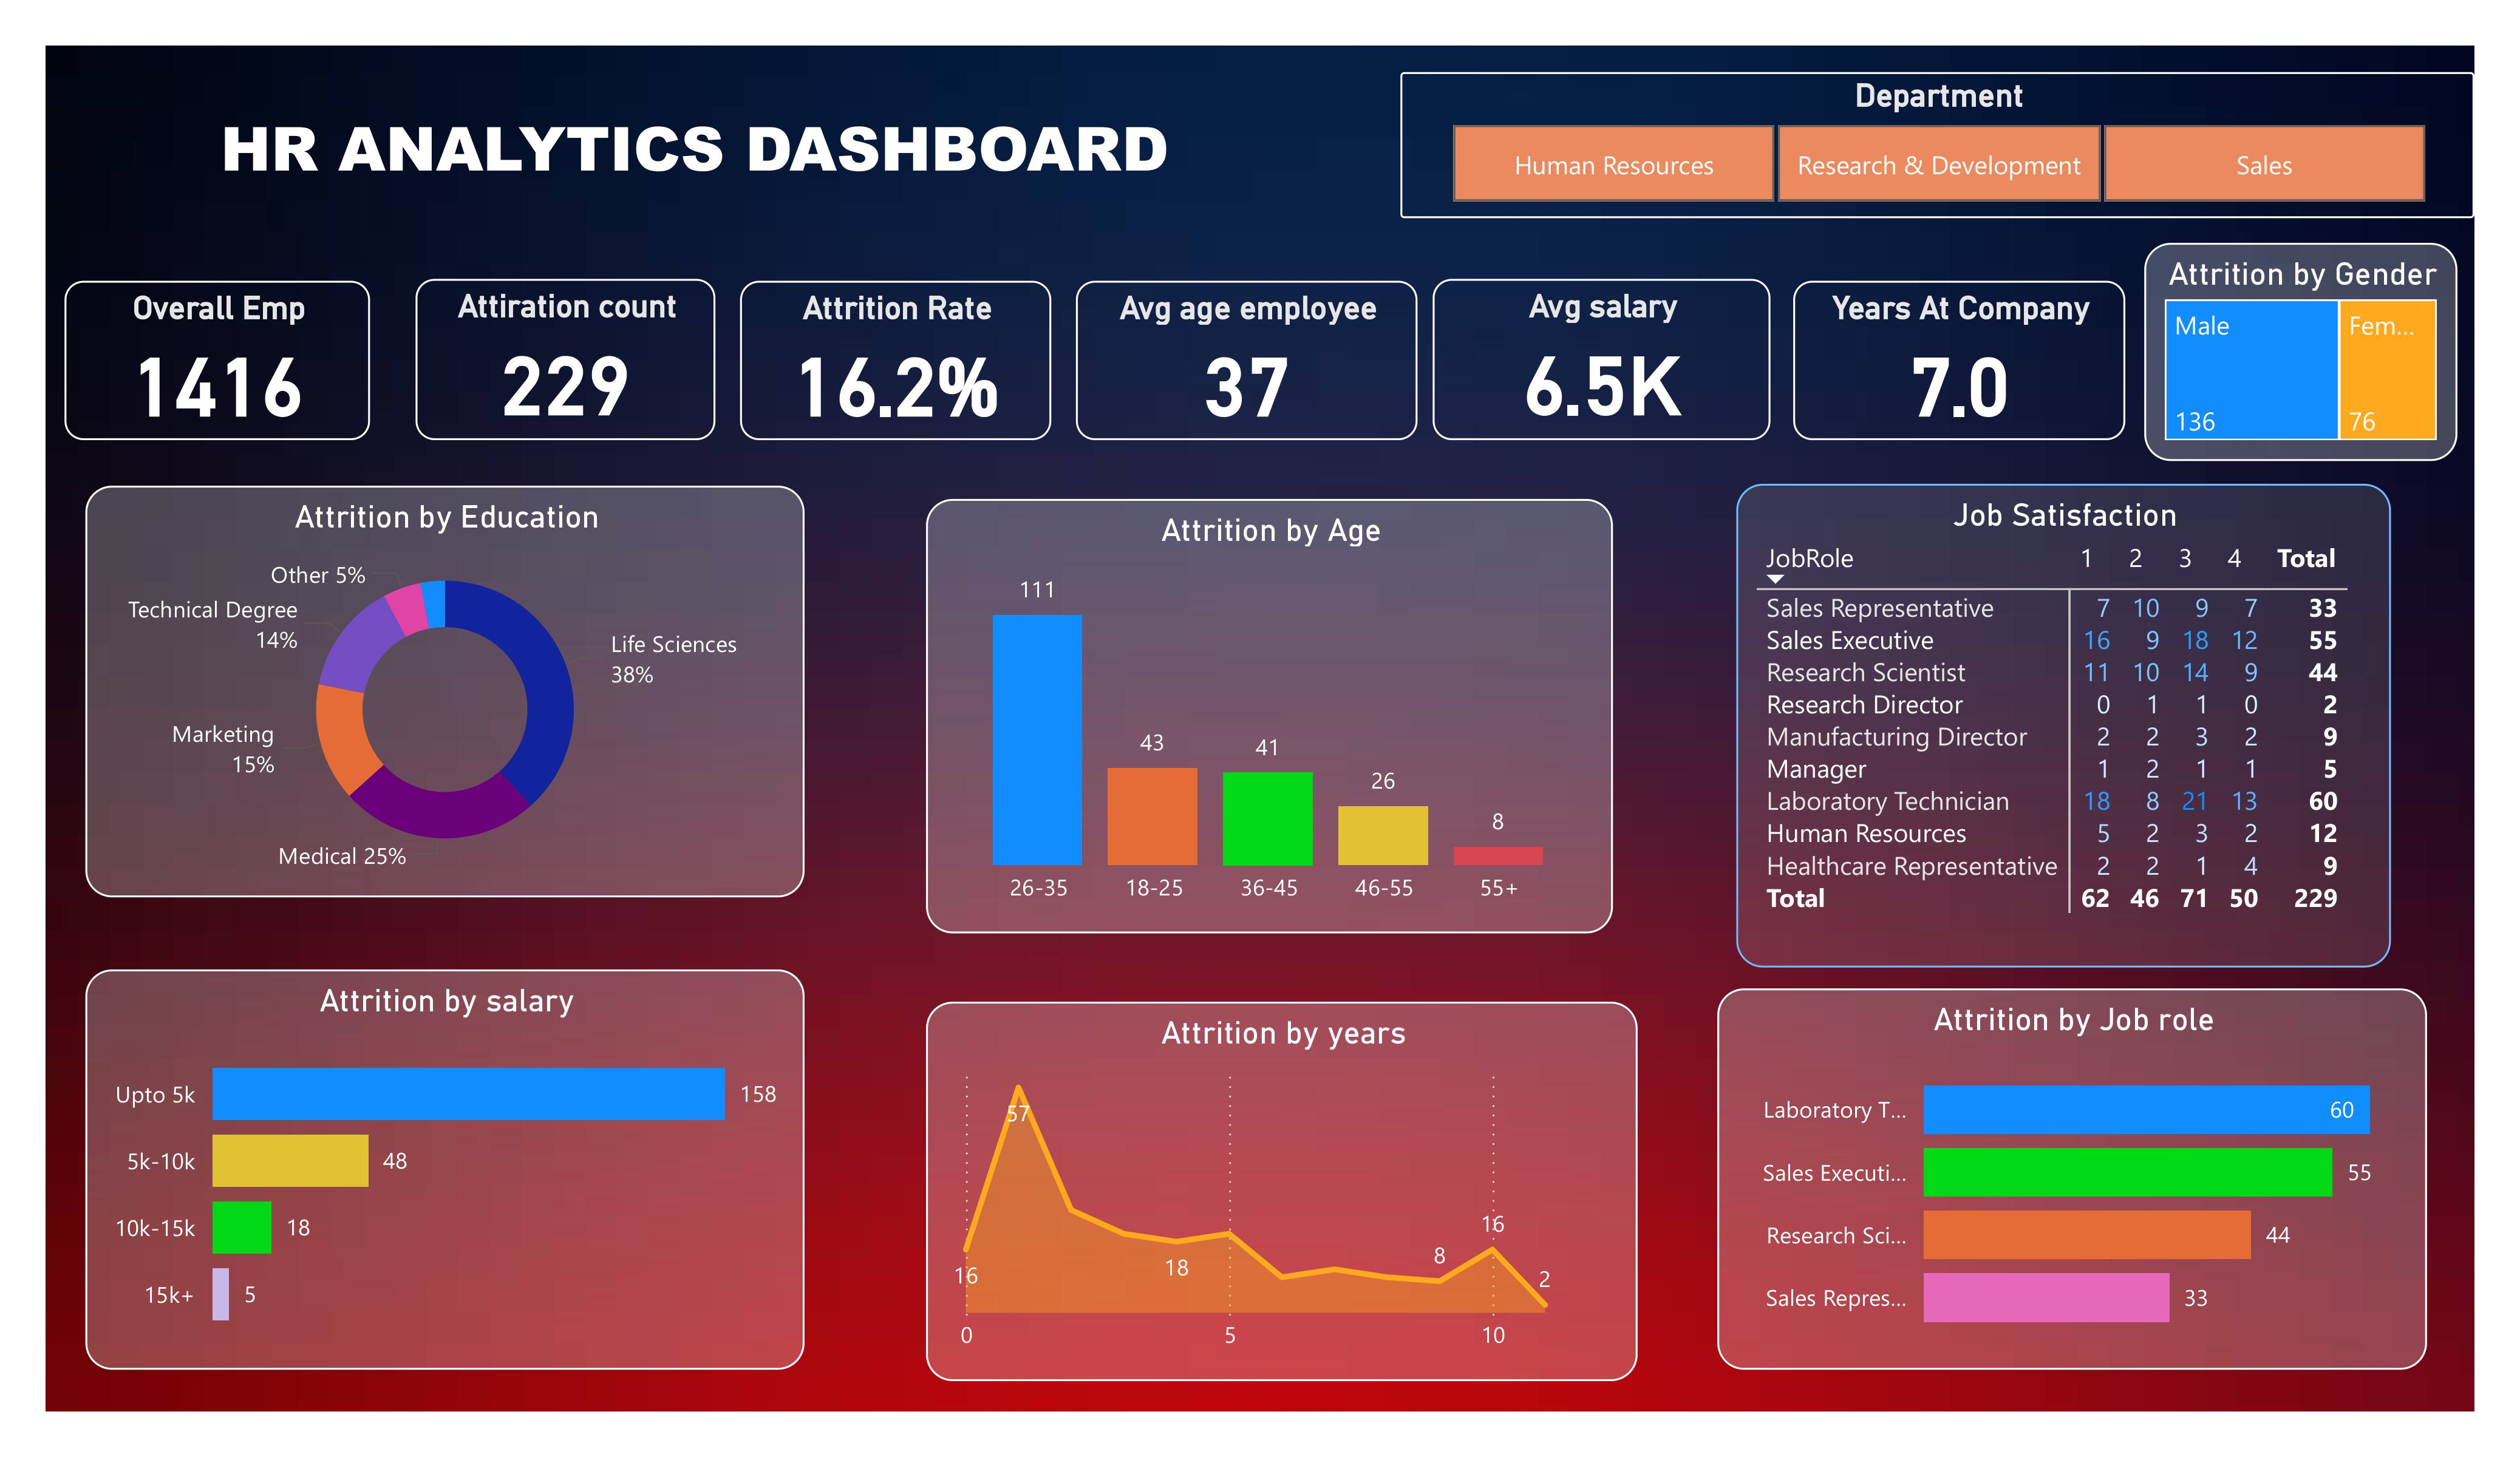

Layout of this report page (visuals, bound fields, positions):
{"tool":"powerbi","page":{"name":"Page 1","canvas":[1280,720],"ordinal":0},"visuals":[{"type":"card","title":"Overall Emp","fields":{"Values":["CountNonNull(HR_Analytics.EmpID)"]},"box":[10,123.8,161.2,83.8],"z":0},{"type":"card","title":"Attiration count","fields":{"Values":["select","Sum(HR_Analytics.AttritionCount)"]},"box":[195,122.5,157.5,85],"z":1},{"type":"card","title":"Attrition Rate","fields":{"Values":["HR_Analytics.AttritionRate"]},"box":[366.2,123.8,163.8,83.8],"z":2},{"type":"card","title":"Avg age employee","fields":{"Values":["Avg(HR_Analytics.Age)"]},"box":[542.5,123.8,180,83.8],"z":3},{"type":"card","title":"Avg salary ","fields":{"Values":["Avg(HR_Analytics.MonthlyIncome)"]},"box":[731.2,122.5,177.5,85],"z":4},{"type":"card","title":"Years At Company","fields":{"Values":["Avg(HR_Analytics.YearsAtCompany)"]},"box":[921.2,123.8,175,83.8],"z":5},{"type":"donutChart","title":"Attrition by Education","fields":{"Category":["HR_Analytics.EducationField"],"Y":["Sum(HR_Analytics.AttritionCount)"]},"box":[21.2,232,378.8,217.5],"z":6},{"type":"columnChart","title":"Attrition by Age","fields":{"Category":["HR_Analytics.AgeGroup"],"Y":["Sum(HR_Analytics.AttritionCount)"]},"box":[463.8,238.8,362.5,228.8],"z":7},{"type":"pivotTable","title":"Job Satisfaction","fields":{"Rows":["HR_Analytics.JobRole"],"Columns":["HR_Analytics.JobSatisfaction"],"Values":["Sum(HR_Analytics.AttritionCount)"]},"box":[891.2,231.2,345,255],"z":8},{"type":"barChart","title":"Attrition by salary","fields":{"Category":["HR_Analytics.SalarySlab"],"Y":["Sum(HR_Analytics.AttritionCount)"]},"box":[21.2,487.2,378.8,211.2],"z":9},{"type":"barChart","title":"Attrition by Job role","fields":{"Category":["HR_Analytics.JobRole"],"Y":["Sum(HR_Analytics.AttritionCount)"]},"box":[881.2,497.2,373.8,201.2],"z":10},{"type":"areaChart","title":"Attrition by years","fields":{"Y":["Sum(HR_Analytics.AttritionCount)"],"Category":["HR_Analytics.YearsAtCompany"]},"box":[463.8,503.8,375,200],"z":11},{"type":"treemap","title":"Attrition by Gender","fields":{"Group":["HR_Analytics.Gender"],"Values":["Sum(HR_Analytics.AttritionCount)"]},"box":[1106.2,103.8,165,115],"z":12},{"type":"slicer","title":"Department","fields":{"Values":["HR_Analytics.Department"]},"box":[713.8,13.8,566.2,77.5],"z":13},{"type":"textbox","box":[32.5,26.2,618.8,65],"z":14}]}

Visuals, with their boxes on the page's 1280x720 design canvas (x1, y1, x2, y2). These are canvas units, not pixel positions in the 2520x1457 screenshot, which may show the page scaled, cropped or inside an application window:
"Overall Emp" card: 10/124/171/208
"Attiration count" card: 195/122/352/208
"Attrition Rate" card: 366/124/530/208
"Avg age employee" card: 542/124/722/208
"Avg salary " card: 731/122/909/208
"Years At Company" card: 921/124/1096/208
"Attrition by Education" donutChart: 21/232/400/450
"Attrition by Age" columnChart: 464/239/826/468
"Job Satisfaction" pivotTable: 891/231/1236/486
"Attrition by salary" barChart: 21/487/400/698
"Attrition by Job role" barChart: 881/497/1255/698
"Attrition by years" areaChart: 464/504/839/704
"Attrition by Gender" treemap: 1106/104/1271/219
"Department" slicer: 714/14/1280/91
textbox: 32/26/651/91
